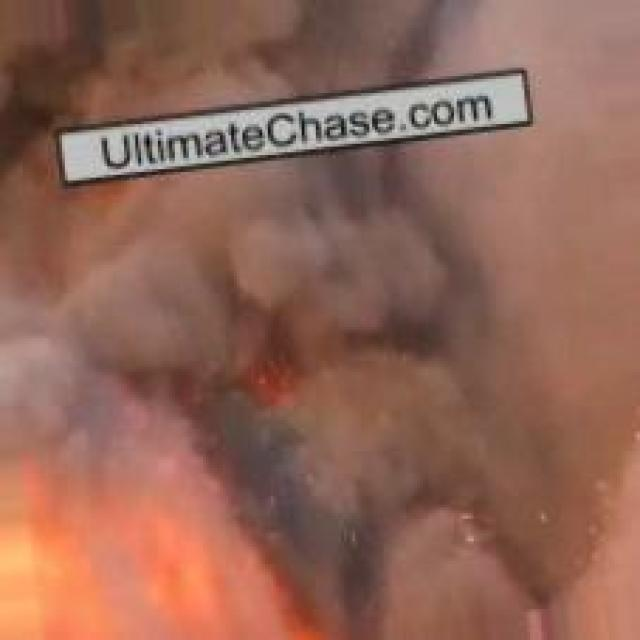smoke: (26, 3, 633, 579)
